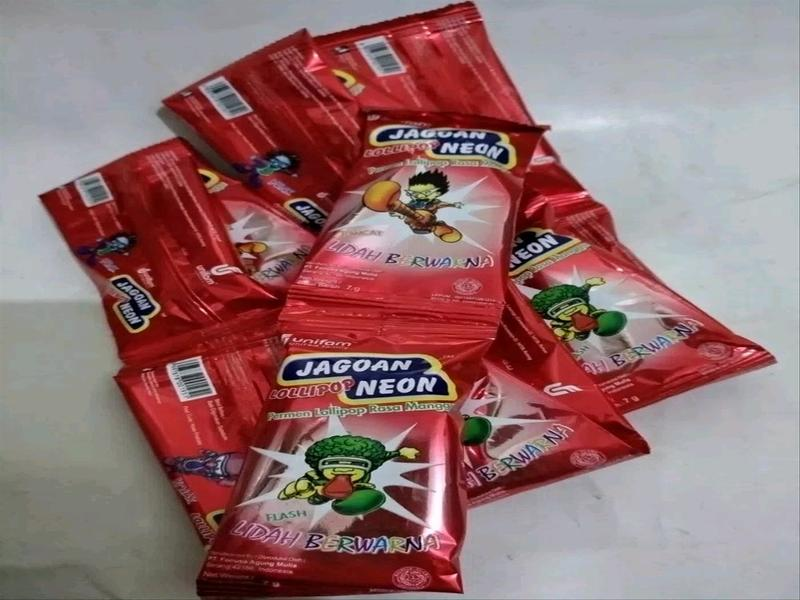jagoan_neon: (196, 323, 499, 596), (276, 107, 551, 325)
